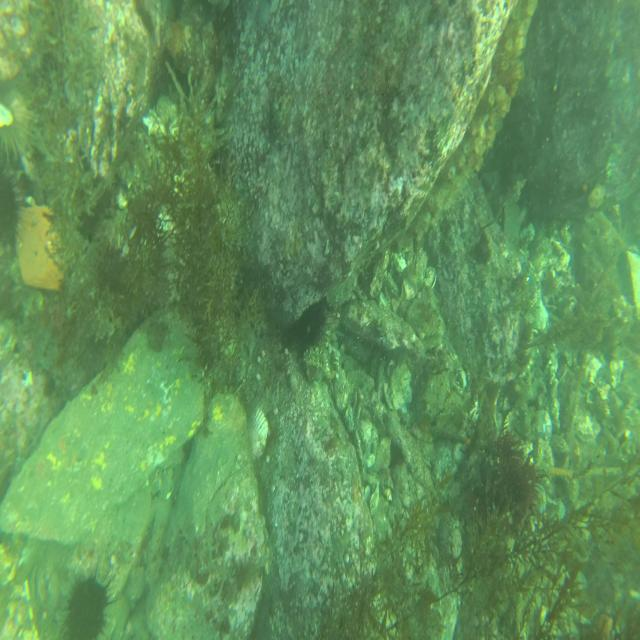echinus: (63, 570, 110, 640), (296, 301, 326, 347)
scallop: (244, 406, 270, 463)
